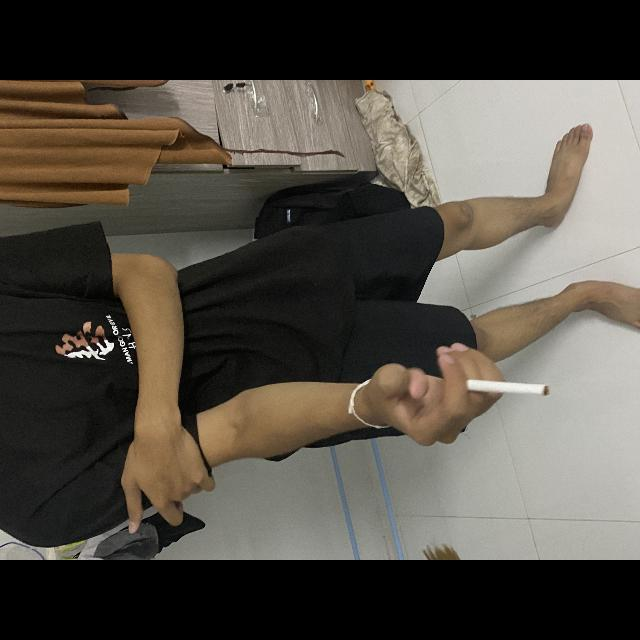rokok: (464, 374, 552, 401)
